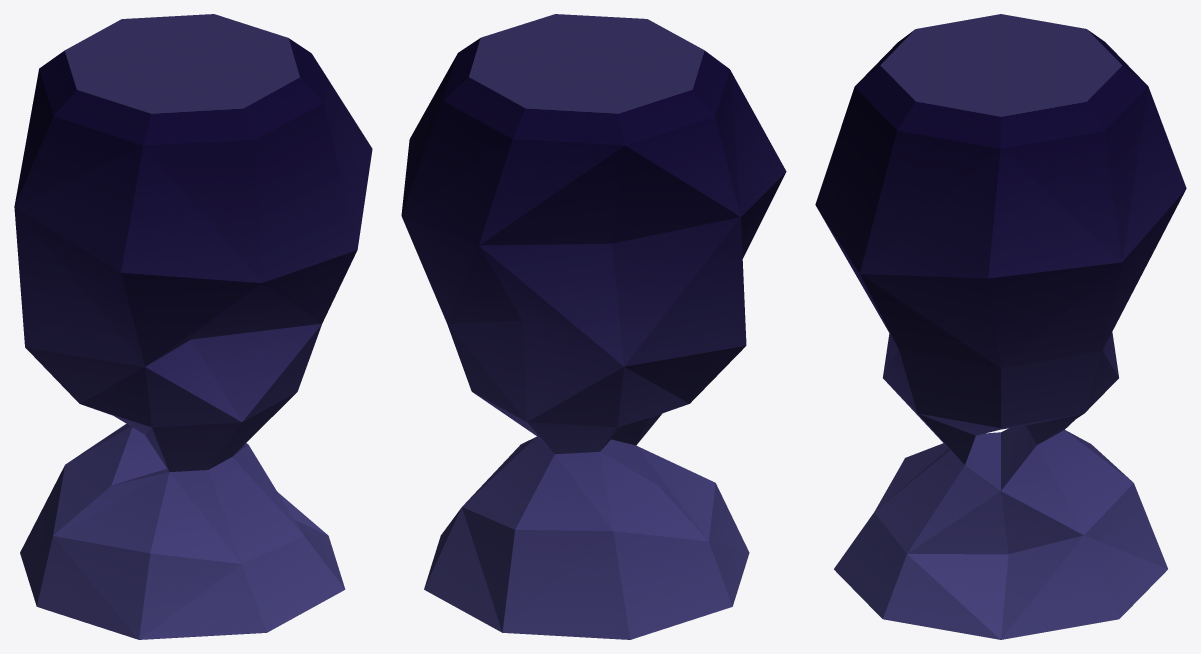
Rendered from MOD_Waypoint (3).fbx.
3 views of the same model, side by side, from view 1: azimuth 30°, elevation 25°; view 2: azimuth 150°, elevation 25°; view 3: azimuth 270°, elevation 25° (orthographic).
Visible parts, largest first — view 1: MOD_Waypoint3; view 2: MOD_Waypoint3; view 3: MOD_Waypoint3.
Boxes of the visible parts, x1=… form: MOD_Waypoint3: x1=14, y1=14, x2=372, y2=639; MOD_Waypoint3: x1=401, y1=14, x2=786, y2=639; MOD_Waypoint3: x1=815, y1=14, x2=1186, y2=639.
Bounding box in the file's own units: 3.17 × 4.46 × 2.98.
